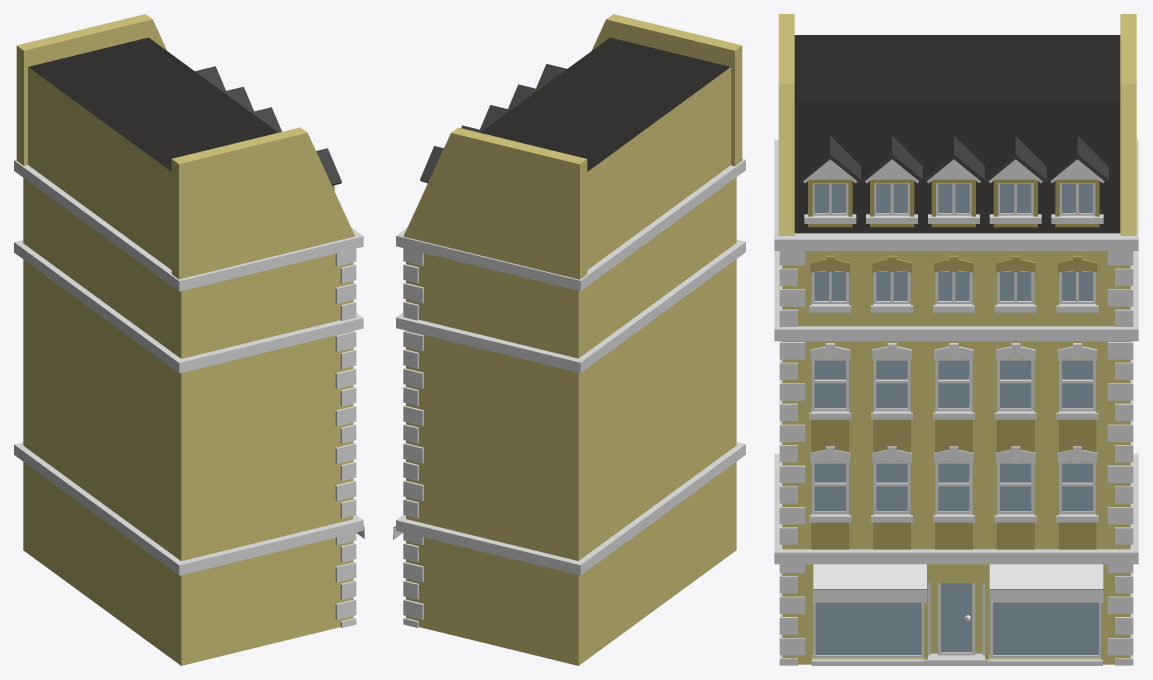
File: yellow-house.fbx
3 views of the same model, side by side, from view 1: azimuth 30°, elevation 25°; view 2: azimuth 150°, elevation 25°; view 3: azimuth 270°, elevation 25° (orthographic). The views are drawn at different scales.
Visible parts, largest first — view 1: Cube.048, Cube.012, Cube.010, Cube.051, Cube.007; view 2: Cube.048, Cube.012, Cube.010, Cube.051, Cube.007; view 3: Cube.048, Cube.013, Cube.051, Cube.050, Cube.009, Plane, Cube.012, Cube.010, Cube.046, Cube.007.
Part boxes in pixels (x1,y1,x2,y2): Cube.048: [14, 14, 363, 665]; Cube.012: [335, 330, 356, 518]; Cube.010: [335, 532, 356, 627]; Cube.051: [195, 66, 341, 190]; Cube.007: [335, 248, 356, 320]; Cube.048: [396, 14, 745, 665]; Cube.012: [403, 330, 423, 518]; Cube.010: [403, 532, 423, 627]; Cube.051: [420, 64, 566, 183]; Cube.007: [403, 248, 423, 320]; Cube.048: [774, 14, 1138, 664]; Cube.013: [809, 343, 1098, 549]; Cube.051: [798, 135, 1108, 227]; Cube.050: [811, 570, 1102, 665]; Cube.009: [809, 255, 1098, 312]; Plane: [813, 564, 1103, 602]; Cube.012: [779, 341, 1133, 544]; Cube.010: [779, 564, 1133, 665]; Cube.046: [924, 583, 988, 665]; Cube.007: [779, 251, 1133, 326].
Bounding box in the file's own units: 721 × 1708 × 1014.
